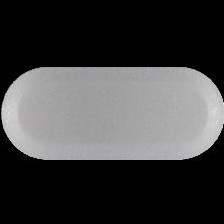0591-0782: (0, 0, 224, 224)
